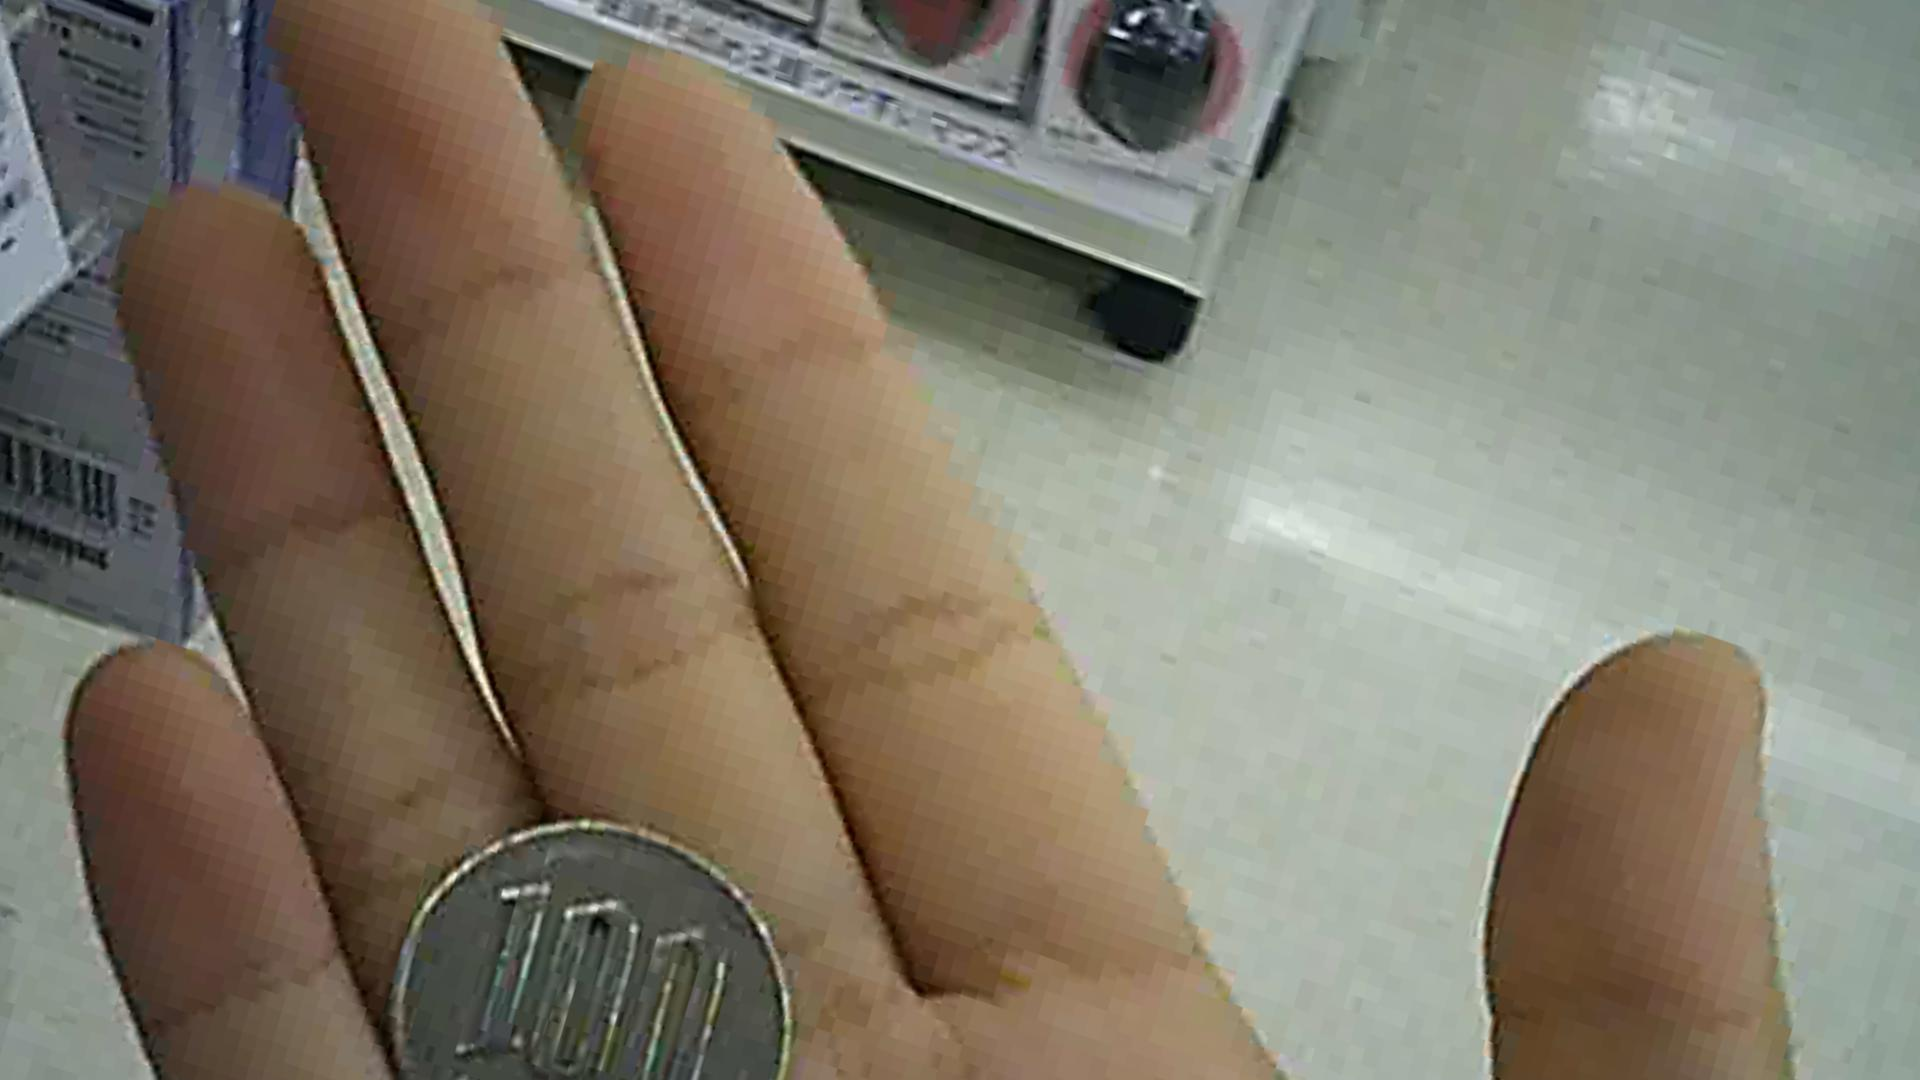100 Yen: (373, 814, 781, 1079)
